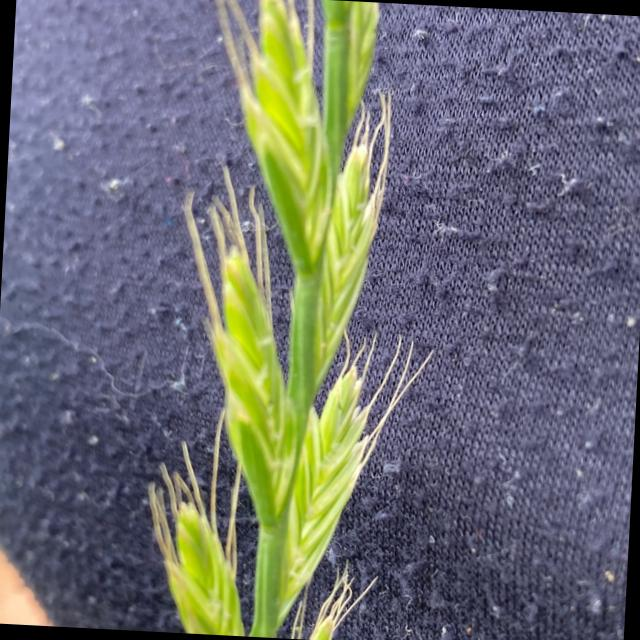Lolium: (138, 0, 452, 640)
